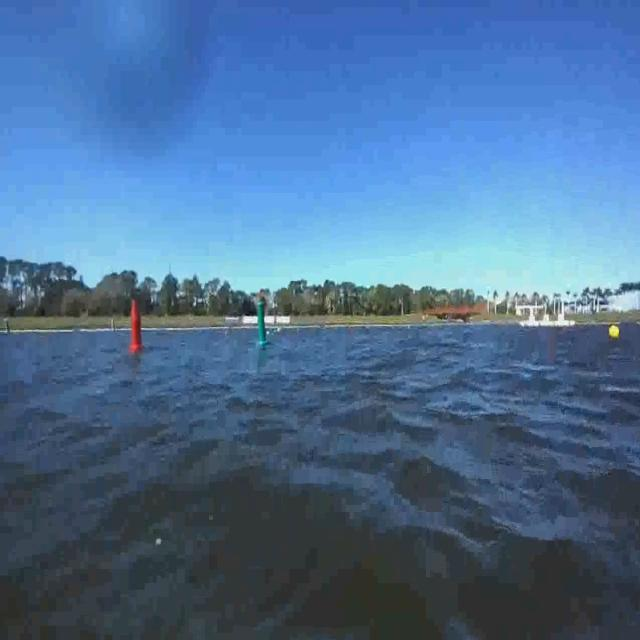green-column-buoy: (254, 301, 269, 349)
red-column-buoy: (130, 298, 146, 352)
yellow-buoy: (610, 325, 622, 343)
